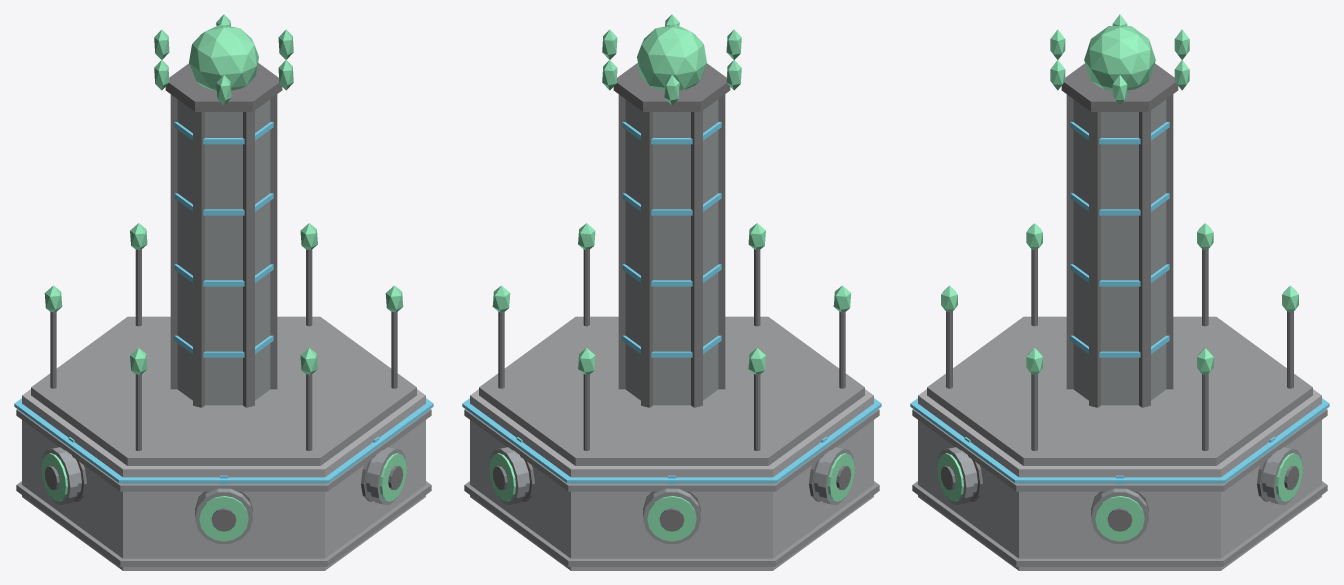
The model's file is guild_beam_s2_100.glb.
3 views of the same model, side by side, from view 1: azimuth 30°, elevation 25°; view 2: azimuth 150°, elevation 25°; view 3: azimuth 270°, elevation 25° (orthographic).
Visible parts, largest first — view 1: GB_BaseCap, GB_Base, GB_Tower, GB_Base_BandLow, GB_CoreCrystal, GB_TowerStrut_3, GB_TowerStrut_4, GB_Base_BandHigh, GB_Base_RuneBand, GB_TowerCap, GB_TowerStrut_2, GB_TowerStrut_5 (+16 smaller); view 2: GB_BaseCap, GB_Base, GB_Tower, GB_Base_BandLow, GB_CoreCrystal, GB_TowerStrut_1, GB_TowerStrut_2, GB_Base_BandHigh, GB_Base_RuneBand, GB_TowerCap, GB_TowerStrut_0, GB_TowerStrut_3 (+16 smaller); view 3: GB_BaseCap, GB_Base, GB_Tower, GB_Base_BandLow, GB_CoreCrystal, GB_TowerStrut_0, GB_TowerStrut_5, GB_Base_BandHigh, GB_Base_RuneBand, GB_TowerCap, GB_TowerStrut_1, GB_TowerStrut_4 (+16 smaller).
Part boxes in pixels (x1=…): GB_BaseCap: x1=31, y1=316, x2=416, y2=465; GB_Base: x1=22, y1=389, x2=425, y2=570; GB_Tower: x1=177, y1=99, x2=270, y2=405; GB_Base_BandLow: x1=16, y1=481, x2=431, y2=566; GB_CoreCrystal: x1=189, y1=24, x2=258, y2=90; GB_TowerStrut_3: x1=193, y1=111, x2=204, y2=407; GB_TowerStrut_4: x1=243, y1=111, x2=254, y2=407; GB_Base_BandHigh: x1=16, y1=409, x2=431, y2=491; GB_Base_RuneBand: x1=14, y1=398, x2=433, y2=483; GB_TowerCap: x1=165, y1=63, x2=282, y2=111; GB_TowerStrut_2: x1=170, y1=94, x2=177, y2=389; GB_TowerStrut_5: x1=270, y1=94, x2=277, y2=389; GB_BaseCap: x1=479, y1=316, x2=864, y2=465; GB_Base: x1=470, y1=389, x2=873, y2=570; GB_Tower: x1=625, y1=99, x2=718, y2=405; GB_Base_BandLow: x1=464, y1=481, x2=879, y2=566; GB_CoreCrystal: x1=637, y1=24, x2=706, y2=90; GB_TowerStrut_1: x1=641, y1=111, x2=652, y2=407; GB_TowerStrut_2: x1=691, y1=111, x2=702, y2=407; GB_Base_BandHigh: x1=464, y1=409, x2=879, y2=491; GB_Base_RuneBand: x1=462, y1=398, x2=881, y2=483; GB_TowerCap: x1=613, y1=63, x2=730, y2=111; GB_TowerStrut_0: x1=618, y1=94, x2=625, y2=389; GB_TowerStrut_3: x1=718, y1=94, x2=725, y2=389; GB_BaseCap: x1=927, y1=316, x2=1312, y2=465; GB_Base: x1=918, y1=389, x2=1321, y2=570; GB_Tower: x1=1073, y1=99, x2=1166, y2=405; GB_Base_BandLow: x1=912, y1=481, x2=1327, y2=566; GB_CoreCrystal: x1=1084, y1=26, x2=1155, y2=90; GB_TowerStrut_0: x1=1139, y1=111, x2=1150, y2=407; GB_TowerStrut_5: x1=1089, y1=111, x2=1100, y2=407; GB_Base_BandHigh: x1=912, y1=409, x2=1327, y2=491; GB_Base_RuneBand: x1=910, y1=398, x2=1329, y2=483; GB_TowerCap: x1=1061, y1=63, x2=1178, y2=111; GB_TowerStrut_1: x1=1166, y1=94, x2=1173, y2=389; GB_TowerStrut_4: x1=1066, y1=94, x2=1073, y2=389.
Size of the model in its own units: 1.78 by 2.31 by 1.87.
